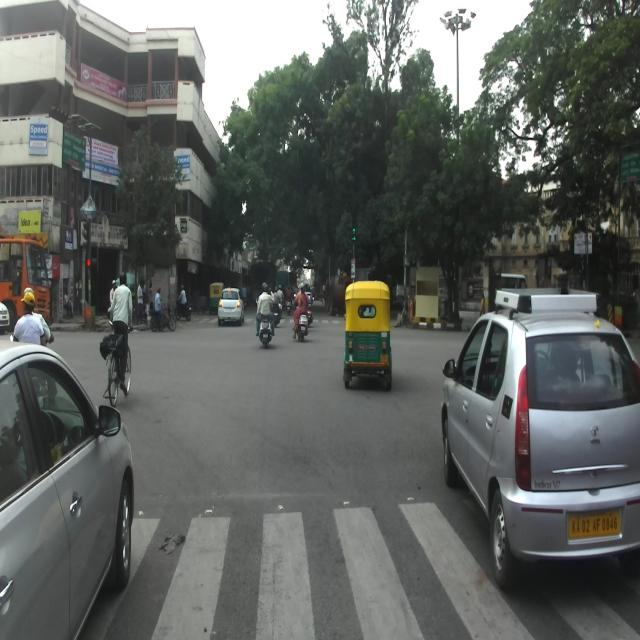autorickshaw: (342, 279, 392, 388), (208, 281, 225, 314)
bus: (0, 237, 50, 331), (494, 272, 526, 300)
car: (440, 285, 640, 592), (0, 340, 136, 635), (216, 286, 245, 326), (0, 302, 9, 334)
motorcycle: (149, 302, 176, 331), (174, 294, 192, 320)
scooter: (256, 297, 271, 348), (294, 292, 308, 341)
